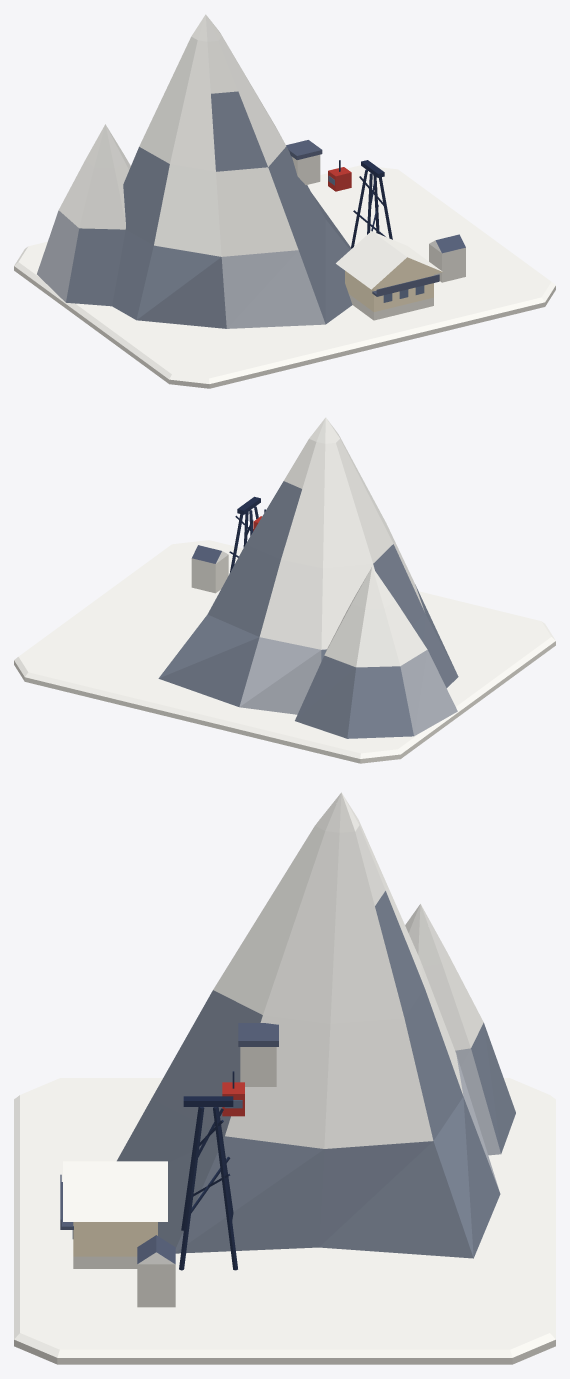
File: val-thorens.glb
3 views of the same model, one above another, from view 1: azimuth 30°, elevation 25°; view 2: azimuth 150°, elevation 25°; view 3: azimuth 270°, elevation 25° (orthographic). The views are drawn at different scales.
Visible parts, largest first — view 1: model; view 2: model; view 3: model.
Part boxes in pixels (bbox=[...]): model: bbox=[14, 14, 555, 388]; model: bbox=[14, 417, 555, 763]; model: bbox=[14, 792, 555, 1364].
Bounding box in the file's own units: 58.4 × 38.2 × 48.
